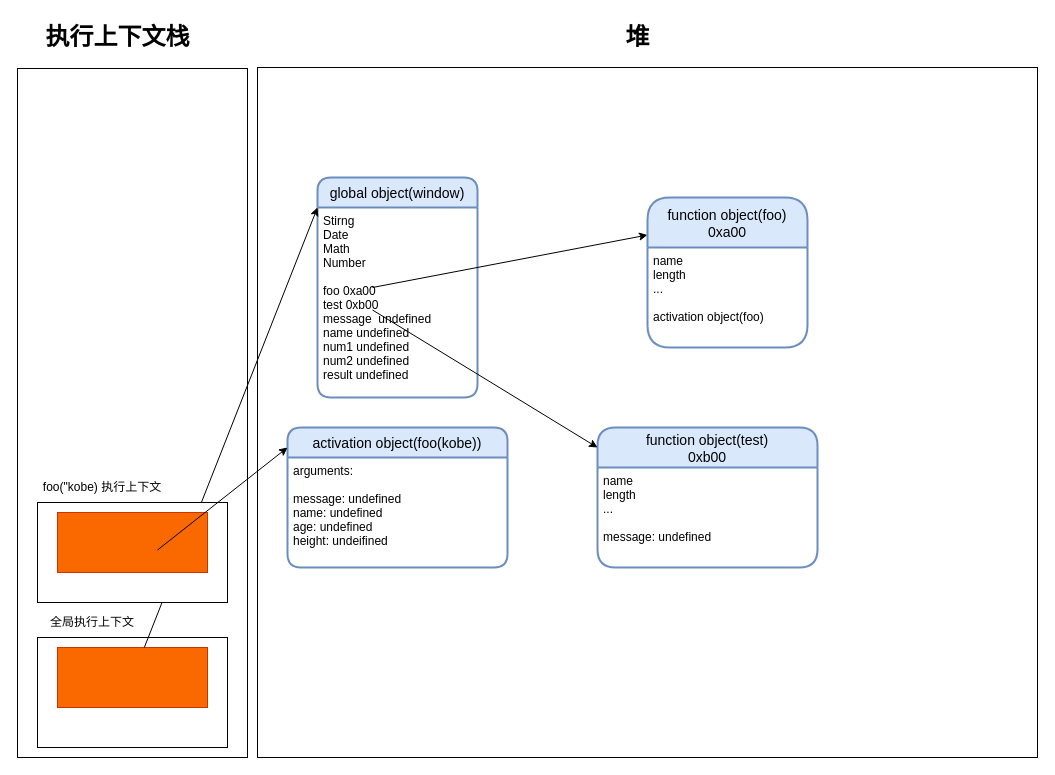
The diagram is 1055 pixels wide and 775 high, and some of its shapes have lost their labels. Here are the shapes that lost their labels. From the top down, the centre of each, then its label:
(132,542): VO AO
(132,677): VO GO scope chain this
